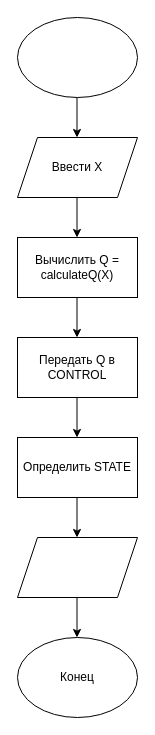
Image size: 155x735. Some labels were removed from this diagram. The centre of each missing label's shape, as x and y in pixels:
Вывести Q и состояние: point (77, 567)
Начало: point (77, 57)
